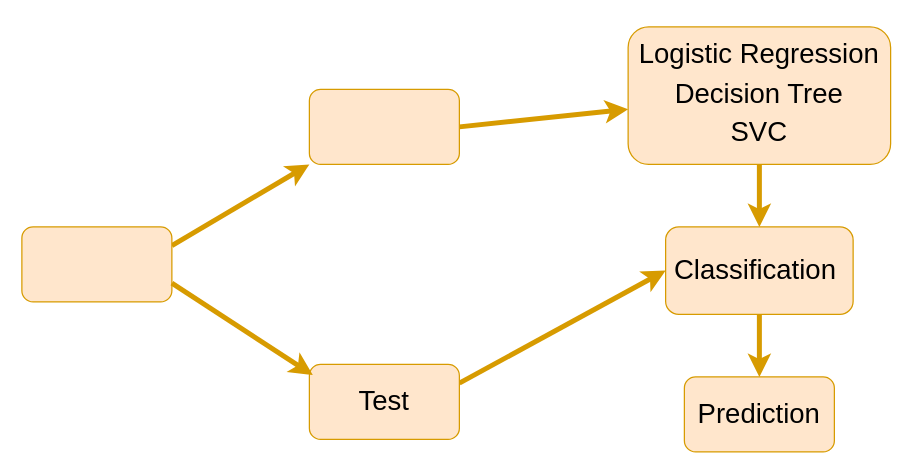
Some shapes in this 913 by 474 pixel diagram are drawn without their labels. Each missing label, with the box of its shape:
Dataset: (21, 226, 172, 302)
Train: (308, 88, 459, 164)
